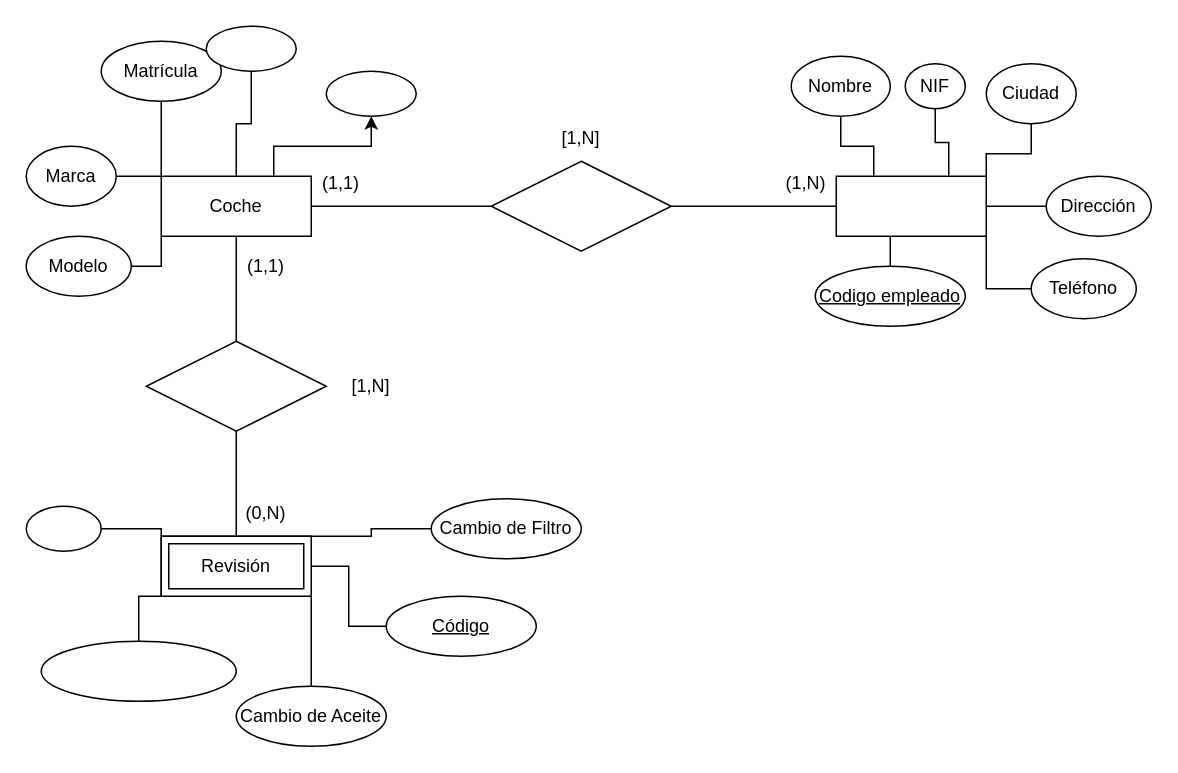
Some shapes in this 1178 by 773 pixel diagram are drawn without their labels. Here are the shapes that lost their labels. From the top down, the box of each, then its label:
(205, 25, 296, 71): Color
(325, 70, 416, 116): Precio
(490, 160, 671, 251): Compra
(835, 175, 986, 236): Cliente
(145, 340, 326, 431): Pasa
(25, 505, 101, 551): Otros
(40, 640, 236, 701): Cambio de Frenos
